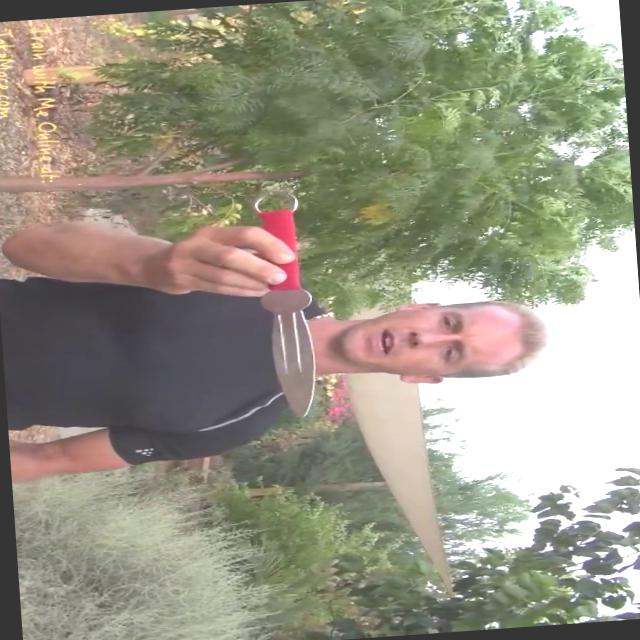knife: (208, 162, 352, 436)
